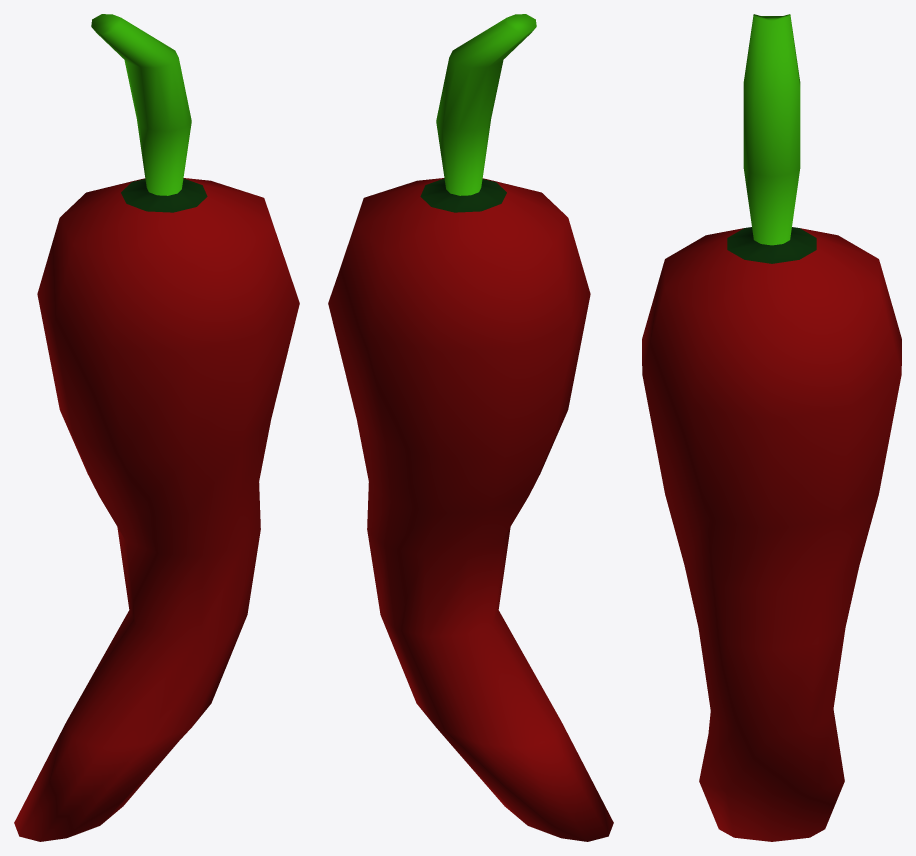
Rendered from CHILI02.FBX.
3 views of the same model, side by side, from view 1: azimuth 30°, elevation 25°; view 2: azimuth 150°, elevation 25°; view 3: azimuth 270°, elevation 25° (orthographic). The views are drawn at different scales.
Parts seen in each view (by area): view 1: Cylinder001, Object001; view 2: Cylinder001, Object001; view 3: Cylinder001, Object001.
Boxes of the visible parts, <box> form: Cylinder001: <box>14,178,299,841</box>; Object001: <box>91,14,207,212</box>; Cylinder001: <box>328,178,613,841</box>; Object001: <box>420,14,536,212</box>; Cylinder001: <box>642,228,901,841</box>; Object001: <box>727,14,816,263</box>.
Bounding box in the file's own units: 12.3 × 34.7 × 9.63.
